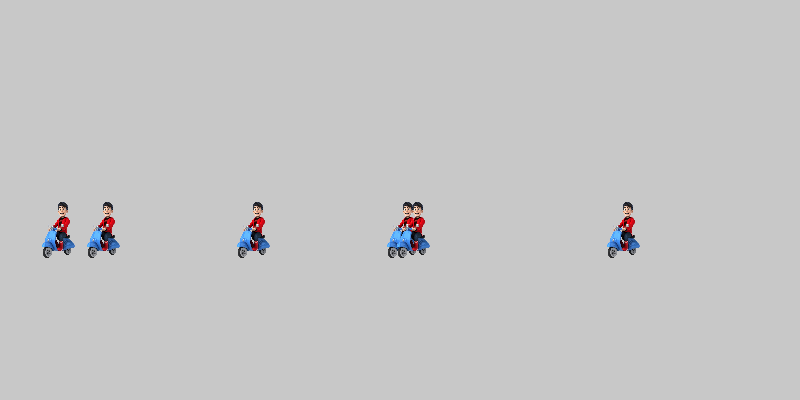no_helmet: (30, 200, 90, 260), (75, 200, 135, 260), (225, 200, 285, 260), (375, 200, 435, 260), (385, 200, 445, 260), (595, 200, 655, 260)
